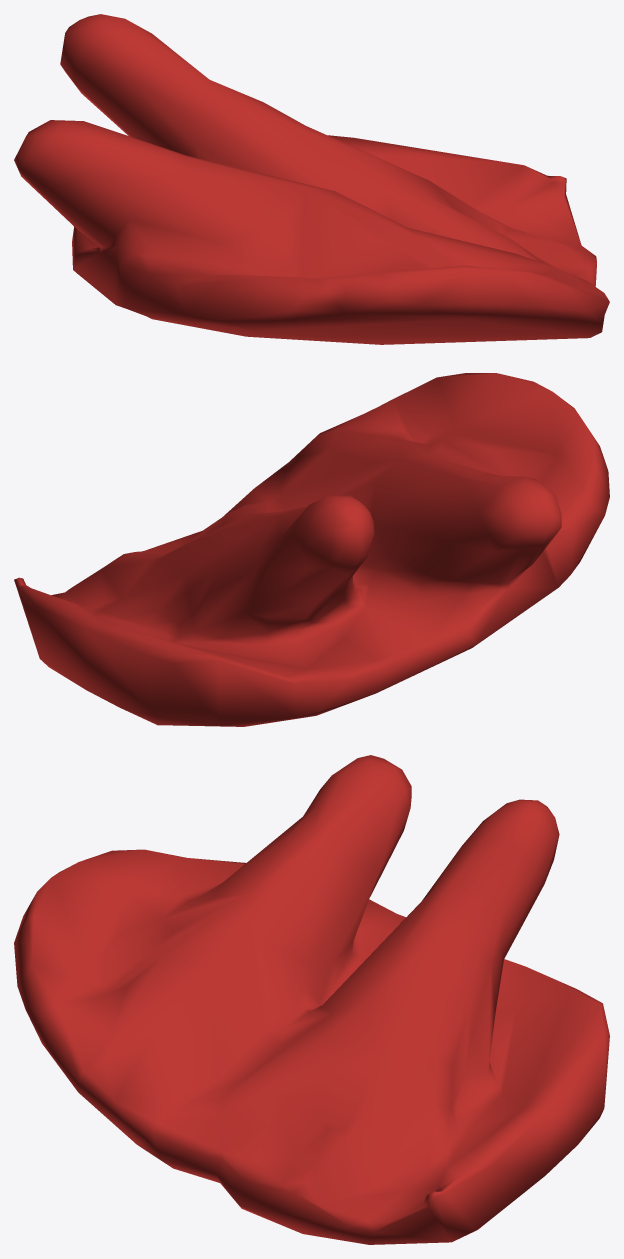
File: circulatorio-inferior-papillary-muscle-of-right-ventricle.glb
3 views of the same model, one above another, from view 1: azimuth 30°, elevation 25°; view 2: azimuth 150°, elevation 25°; view 3: azimuth 270°, elevation 25° (orthographic). The views are drawn at different scales.
Visible parts, largest first — view 1: Inferior papillary muscle of right ventricle; view 2: Inferior papillary muscle of right ventricle; view 3: Inferior papillary muscle of right ventricle.
Part boxes in pixels (bbox=[...]): Inferior papillary muscle of right ventricle: bbox=[14, 14, 609, 344]; Inferior papillary muscle of right ventricle: bbox=[14, 373, 609, 726]; Inferior papillary muscle of right ventricle: bbox=[14, 755, 609, 1244].
Size of the model in its own units: 0.0306 by 0.0149 by 0.0296.
